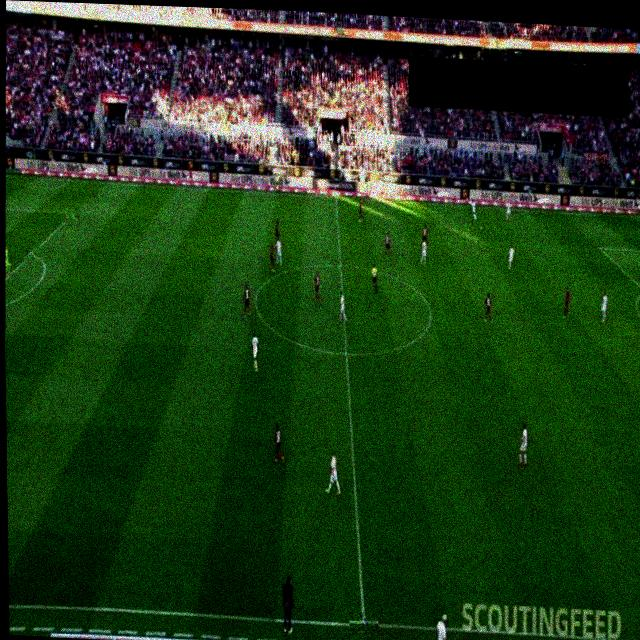bigarea_top_inner: (65, 208, 79, 220), (594, 242, 605, 254)
halfcircle_bottom: (339, 347, 352, 359)
halfcircle_top: (334, 259, 346, 270)
midline_bottom_intersection: (349, 612, 378, 636)
midline_top_intersection: (329, 191, 341, 203)
top_arc_area_intersection: (24, 247, 40, 259)
